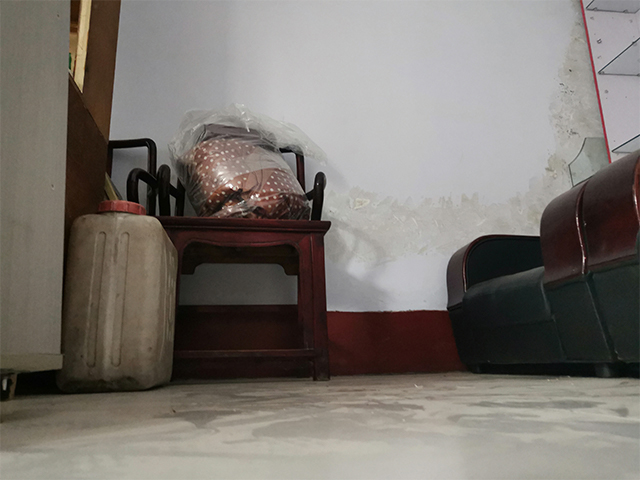sofa: (444, 144, 640, 380)
stool: (104, 136, 333, 383)
